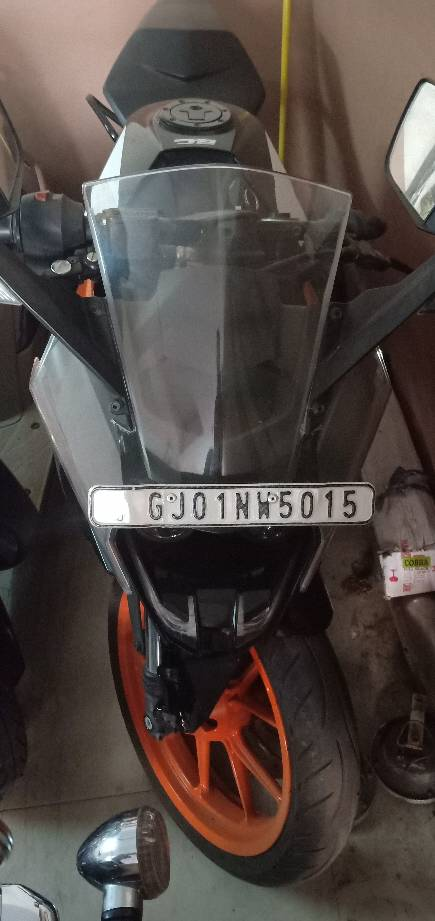numberplate: (85, 481, 376, 531)
